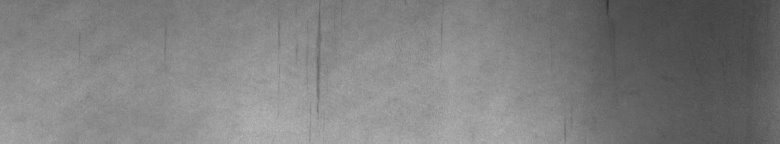ka: (278, 12, 325, 113)
